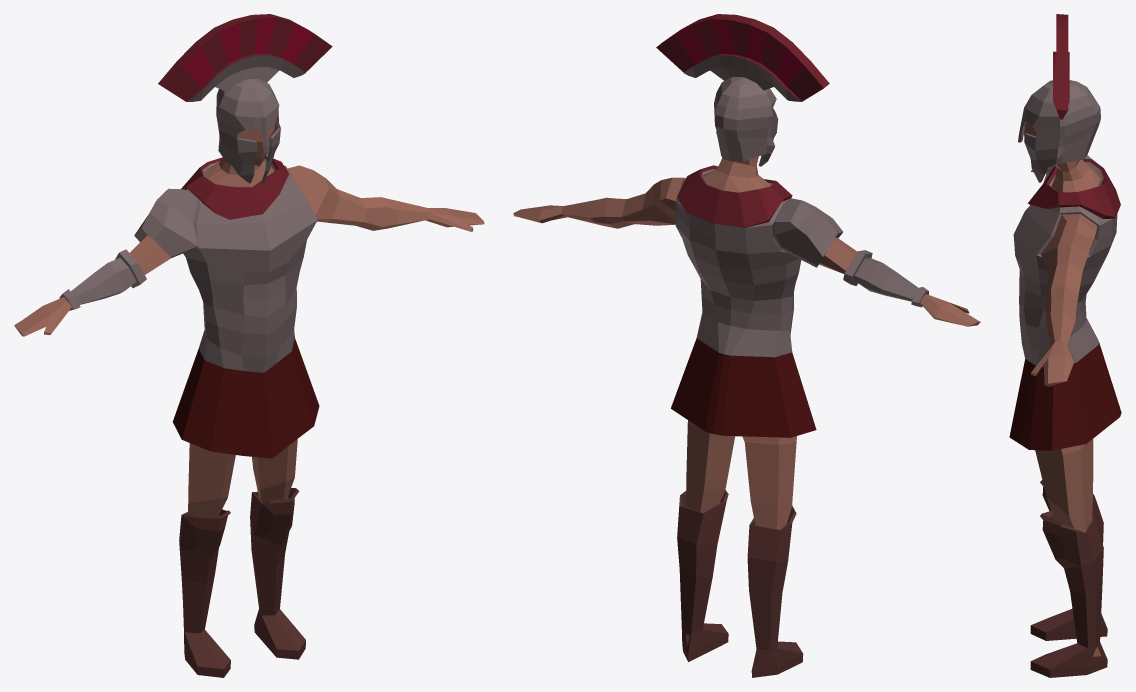
The model's file is RomanCenturion.glb.
The picture shows the model from 3 angles, left to right: view 1: azimuth 30°, elevation 25°; view 2: azimuth 150°, elevation 25°; view 3: azimuth 270°, elevation 25°; orthographic projection.
Visible parts, largest first — view 1: Shirt_Cylinder.003, Body_Cylinder, Boots_Cylinder.004, Helm_top_Cube.001, Helmet_Cylinder.002, Cloak_Cylinder.001, Shoulder_Cylinder.006, Wrist_Guard_Cylinder.005; view 2: Shirt_Cylinder.003, Body_Cylinder, Boots_Cylinder.004, Helm_top_Cube.001, Helmet_Cylinder.002, Cloak_Cylinder.001, Shoulder_Cylinder.006, Wrist_Guard_Cylinder.005; view 3: Shirt_Cylinder.003, Body_Cylinder, Boots_Cylinder.004, Helmet_Cylinder.002, Cloak_Cylinder.001, Helm_top_Cube.001.
Boxes of the visible parts, x1,y1,x2,y2 form: Shirt_Cylinder.003: (173,159,319,458); Body_Cylinder: (14,123,484,515); Boots_Cylinder.004: (179,488,305,677); Helm_top_Cube.001: (158,14,332,101); Helmet_Cylinder.002: (216,78,280,183); Cloak_Cylinder.001: (181,156,288,219); Shoulder_Cylinder.006: (134,188,200,257); Wrist_Guard_Cylinder.005: (59,249,146,310); Shirt_Cylinder.003: (671,169,816,437); Body_Cylinder: (513,156,980,646); Boots_Cylinder.004: (677,490,803,677); Helm_top_Cube.001: (656,14,829,101); Helmet_Cylinder.002: (714,77,778,166); Cloak_Cylinder.001: (677,165,792,227); Shoulder_Cylinder.006: (772,198,842,267); Wrist_Guard_Cylinder.005: (843,250,928,307); Shirt_Cylinder.003: (1009,162,1121,450); Body_Cylinder: (1023,121,1100,656); Boots_Cylinder.004: (1030,480,1107,677); Helmet_Cylinder.002: (1018,80,1100,182); Cloak_Cylinder.001: (1028,159,1120,218); Helm_top_Cube.001: (1053,14,1069,119).
Bounding box in the file's own units: 2.77 × 3.66 × 0.5927.
